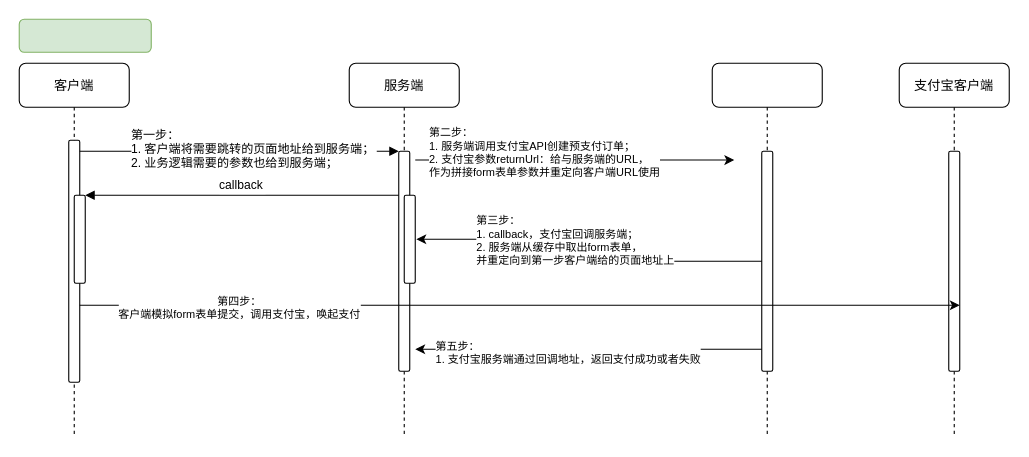
The diagram is 1029 pixels wide and 457 high, and some of its shapes have lost their labels. The box of each missing label's shape, as (x1, y1, x2, y2) in pixels:
支付宝H5支付: (18, 18, 151, 52)
支付宝服务端: (711, 62, 822, 437)
